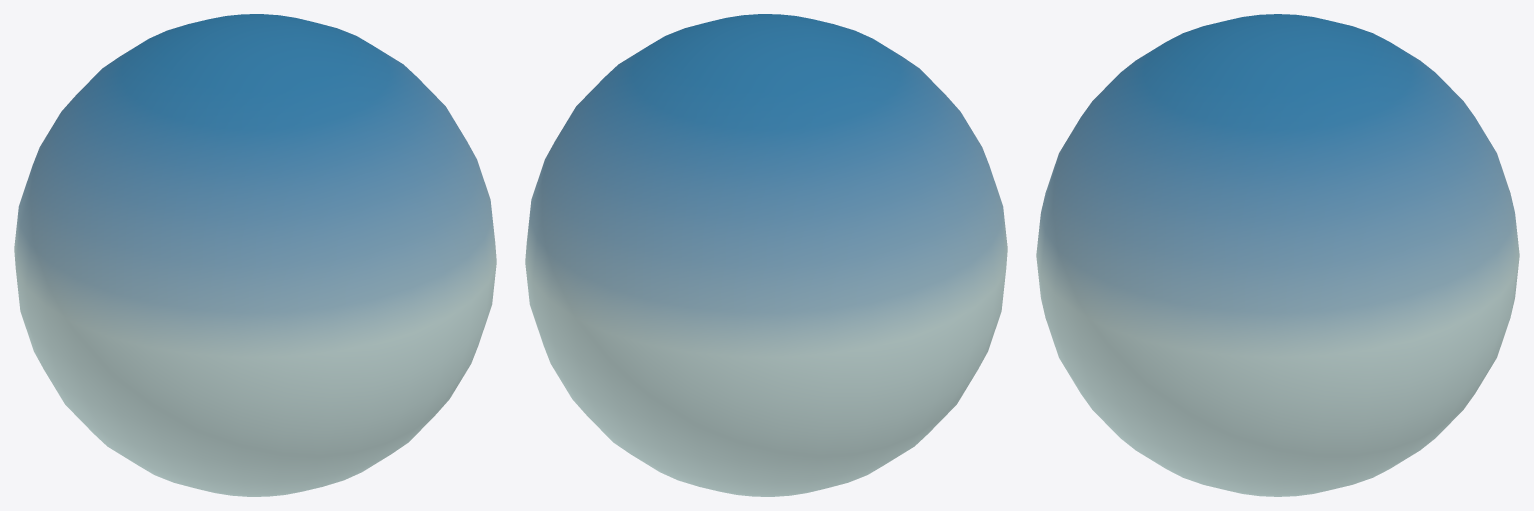
Rendered from stadium-day.glb.
3 renders of one model, left to right at view 1: azimuth 30°, elevation 25°; view 2: azimuth 150°, elevation 25°; view 3: azimuth 270°, elevation 25°, orthographic.
Parts seen in each view (by area): view 1: Sky sky; view 2: Sky sky; view 3: Sky sky.
Part boxes in pixels (<box>): Sky sky: <box>14,14,496,496</box>; Sky sky: <box>525,14,1007,496</box>; Sky sky: <box>1036,14,1519,496</box>.
Size of the model in its own units: 840 by 840 by 840.
